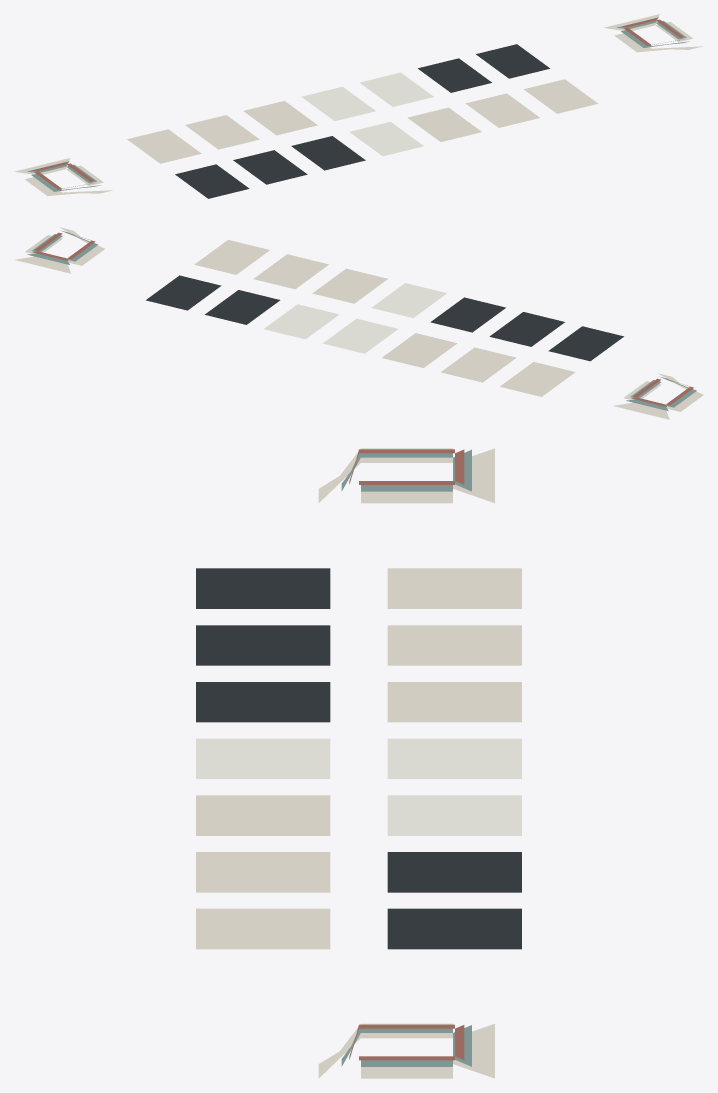
The model's file is structural.obj.
3 renders of one model, top to bottom at view 1: azimuth 30°, elevation 25°; view 2: azimuth 150°, elevation 25°; view 3: azimuth 270°, elevation 25°, orthographic. The views are drawn at different scales.
Visible parts, largest first — view 1: back_yoke, jacket_front_L, jacket_front_R, inner_front, inner_back, cuff_L, jacket_back, trouser_front_L, trouser_back_L, trouser_back_R, waistband_outer, waistband_inner (+8 smaller); view 2: trouser_back_L, jacket_front_R, jacket_back, inner_front, trouser_front_L, trouser_front_R, back_yoke, inner_back, trouser_back_R, waistband_outer, waistband_inner, cuff_L (+8 smaller); view 3: trouser_front_R, cuff_R, jacket_front_L, jacket_front_R, inner_back, trouser_front_L, trouser_back_L, trouser_back_R, back_yoke, cuff_L, jacket_back, inner_front (+8 smaller).
Boxes of the visible parts, x1,y1,x2,y2 form: back_yoke: [407, 107, 481, 141]; jacket_front_L: [127, 129, 201, 163]; jacket_front_R: [185, 115, 259, 149]; inner_front: [301, 86, 375, 120]; inner_back: [359, 72, 433, 106]; cuff_L: [465, 93, 539, 127]; jacket_back: [243, 101, 317, 135]; trouser_front_L: [418, 58, 491, 92]; trouser_back_L: [175, 164, 249, 198]; trouser_back_R: [233, 150, 307, 184]; waistband_outer: [291, 136, 365, 170]; waistband_inner: [349, 122, 423, 156]; trouser_back_L: [548, 326, 623, 361]; jacket_front_R: [441, 347, 516, 382]; jacket_back: [382, 333, 457, 367]; inner_front: [323, 318, 397, 353]; trouser_front_L: [204, 290, 280, 324]; trouser_front_R: [146, 275, 221, 310]; back_yoke: [312, 268, 387, 303]; inner_back: [264, 304, 339, 339]; trouser_back_R: [489, 312, 564, 346]; waistband_outer: [430, 297, 505, 332]; waistband_inner: [371, 283, 446, 317]; cuff_L: [253, 254, 328, 289]; trouser_front_R: [387, 908, 521, 949]; cuff_R: [196, 908, 330, 949]; jacket_front_L: [387, 568, 521, 608]; jacket_front_R: [387, 625, 521, 665]; inner_back: [387, 795, 521, 835]; trouser_front_L: [387, 852, 521, 892]; trouser_back_L: [196, 568, 330, 608]; trouser_back_R: [196, 625, 330, 665]; back_yoke: [196, 795, 330, 835]; cuff_L: [196, 852, 330, 892]; jacket_back: [387, 682, 521, 722]; inner_front: [387, 738, 521, 778].
Bounding box in the file's own units: 3.89 × 0.035 × 0.85.
